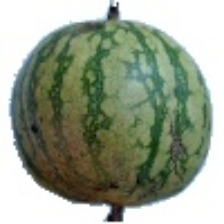watermelon: (27, 35, 217, 203)
